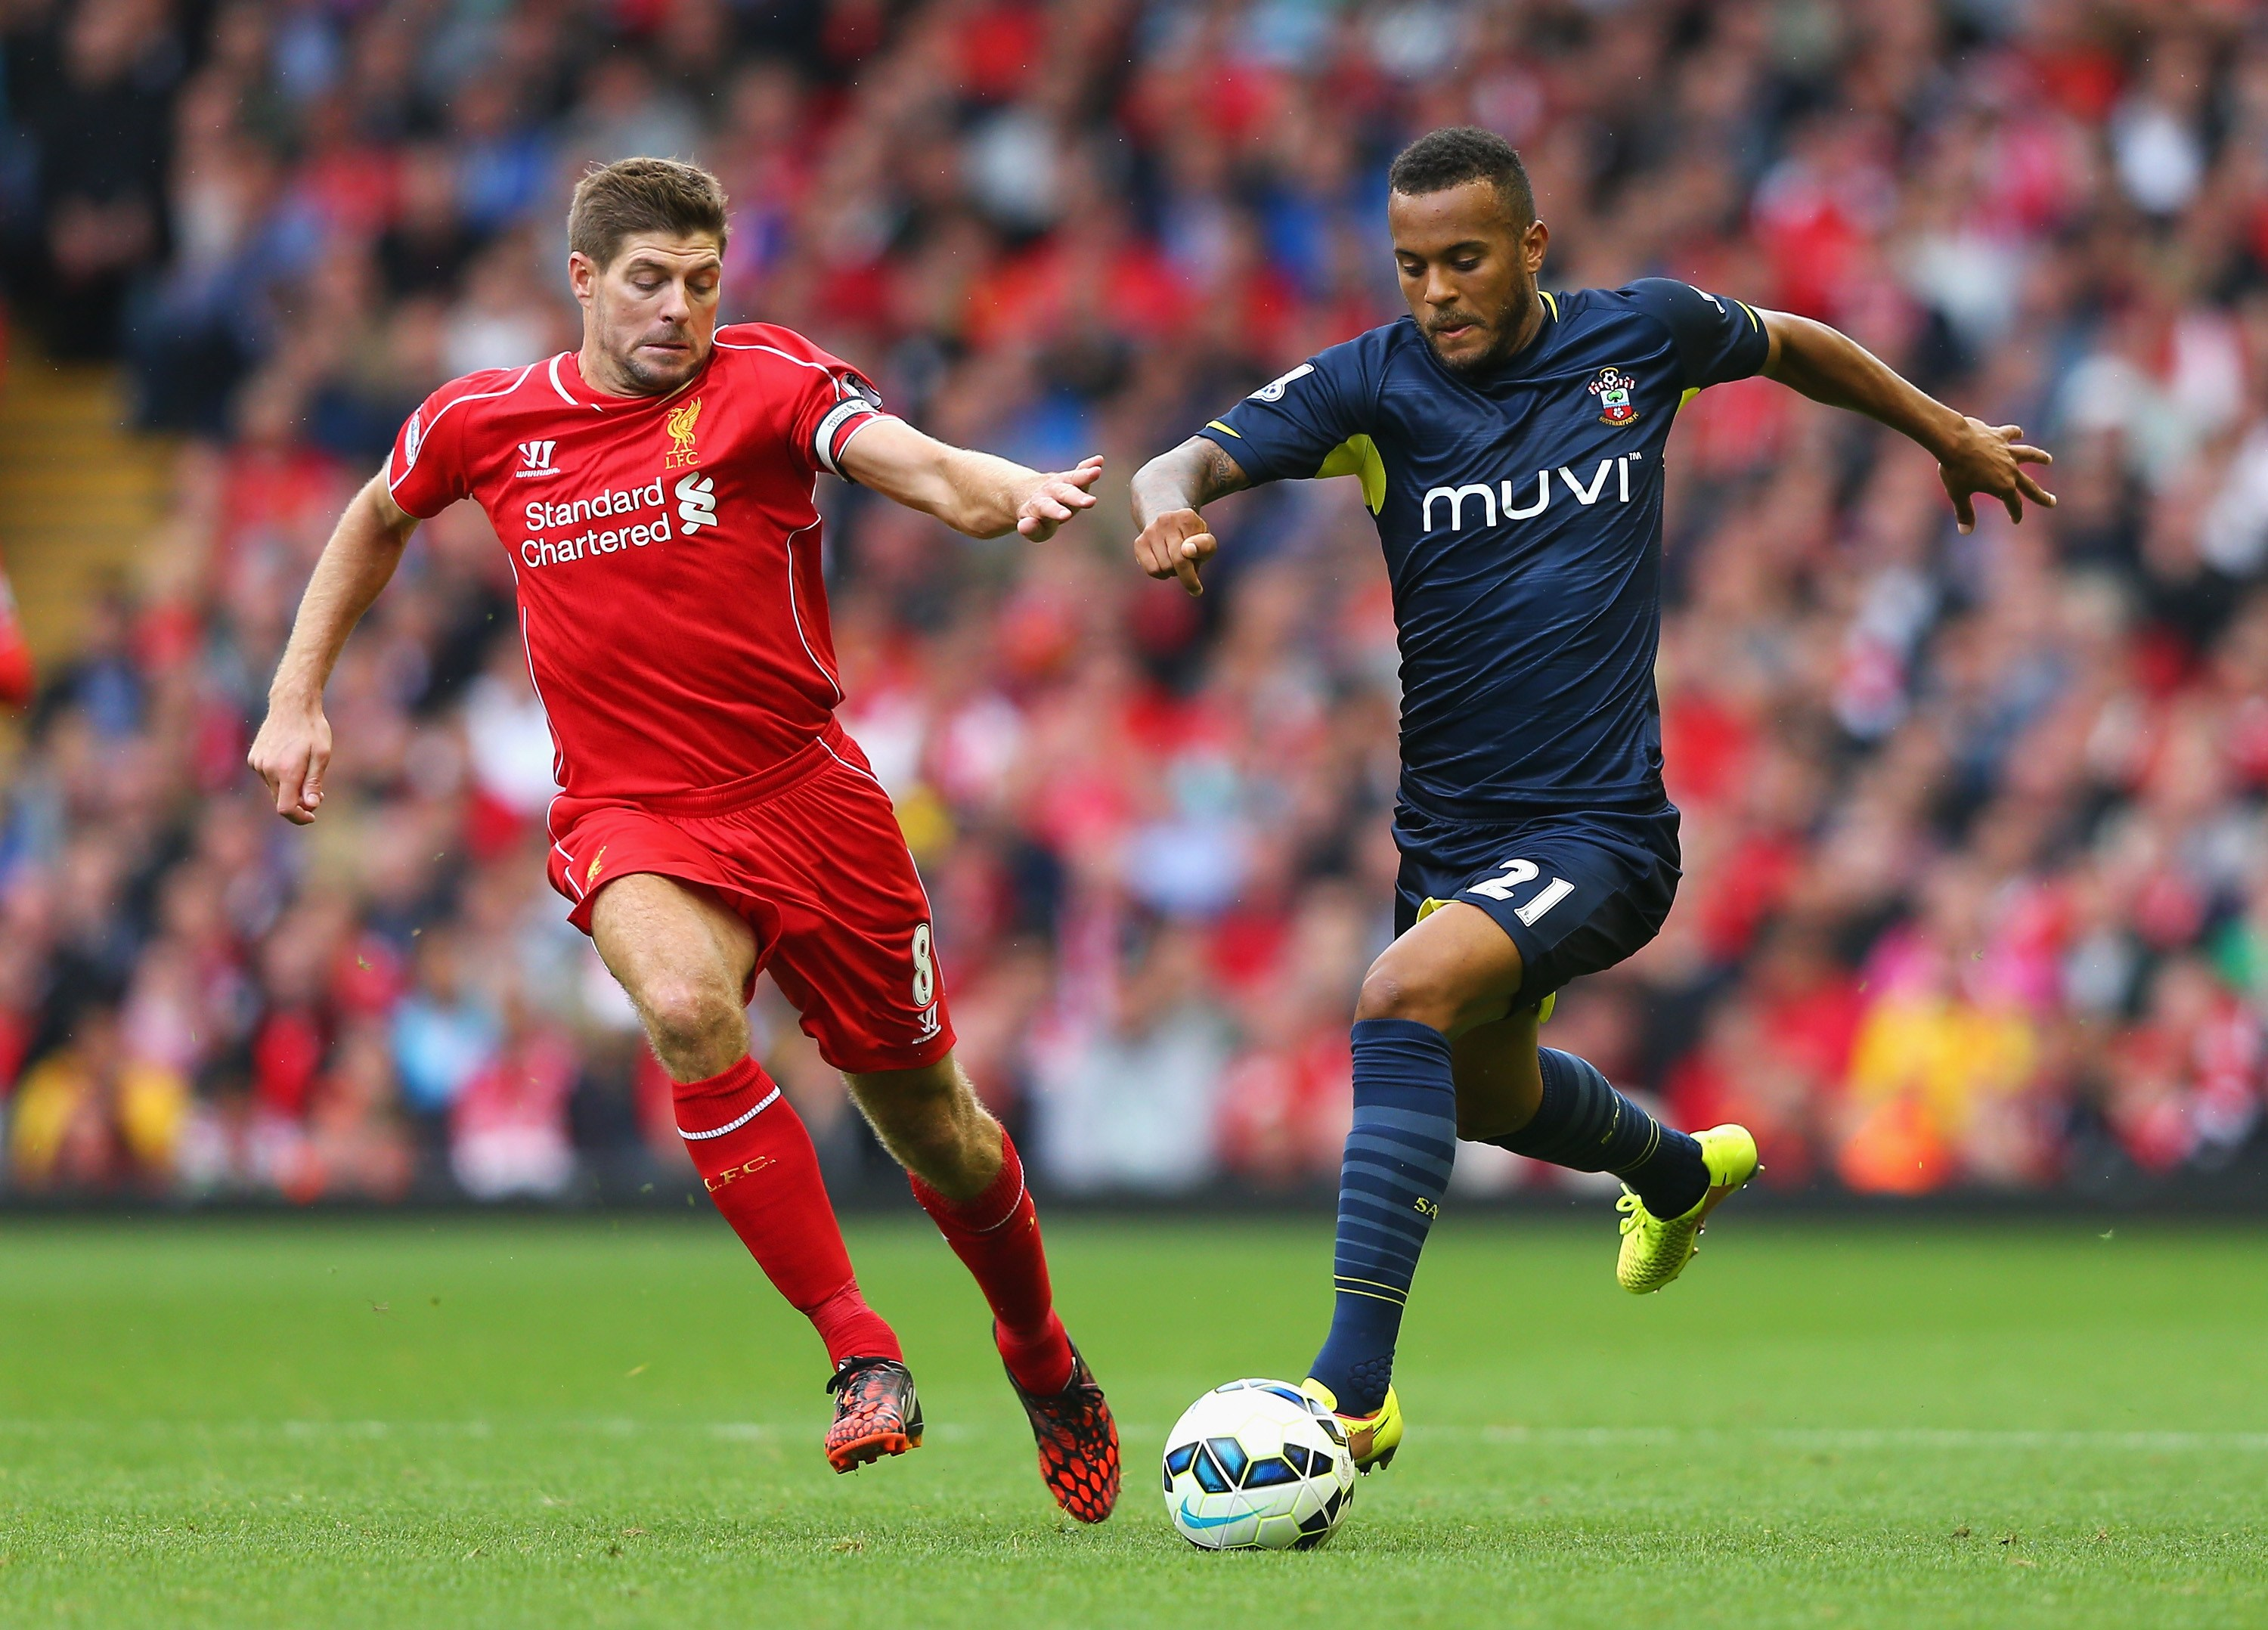ball: (1157, 1375, 1356, 1553)
